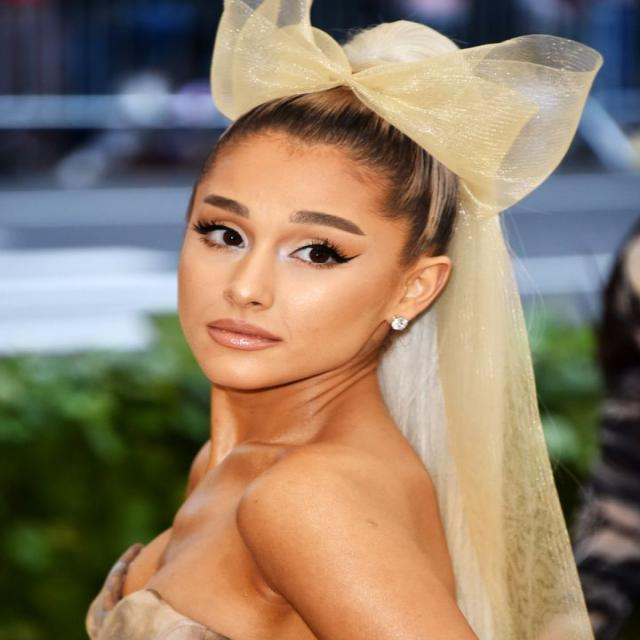mobile_phonerotation: (84, 1, 606, 639)
